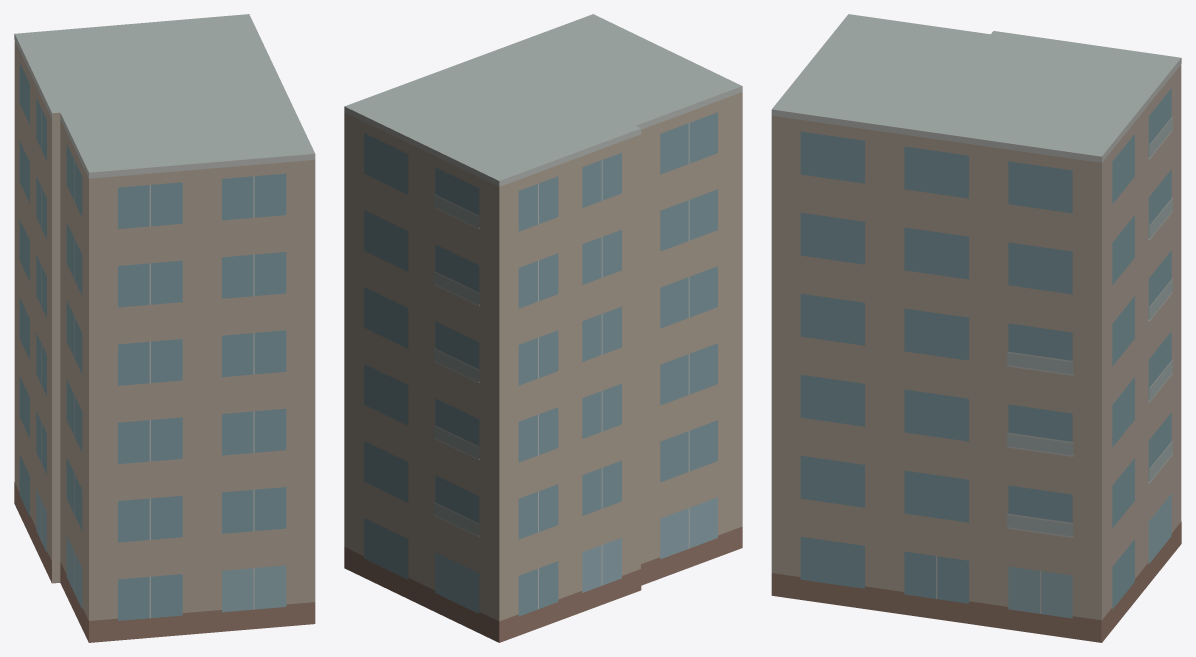
The model's file is survey-upis-33020813.glb.
3 renders of one model, left to right at view 1: azimuth 30°, elevation 25°; view 2: azimuth 150°, elevation 25°; view 3: azimuth 270°, elevation 25°, orthographic. The views are drawn at different scales.
Parts seen in each view (by area): view 1: survey-upis-33020813.tmp; view 2: survey-upis-33020813.tmp; view 3: survey-upis-33020813.tmp.
Part boxes in pixels (x1=…): survey-upis-33020813.tmp: x1=14, y1=14, x2=315, y2=642; survey-upis-33020813.tmp: x1=344, y1=14, x2=742, y2=642; survey-upis-33020813.tmp: x1=771, y1=14, x2=1181, y2=642.
Size of the model in its own units: 12.03 by 19.1 by 14.6.
